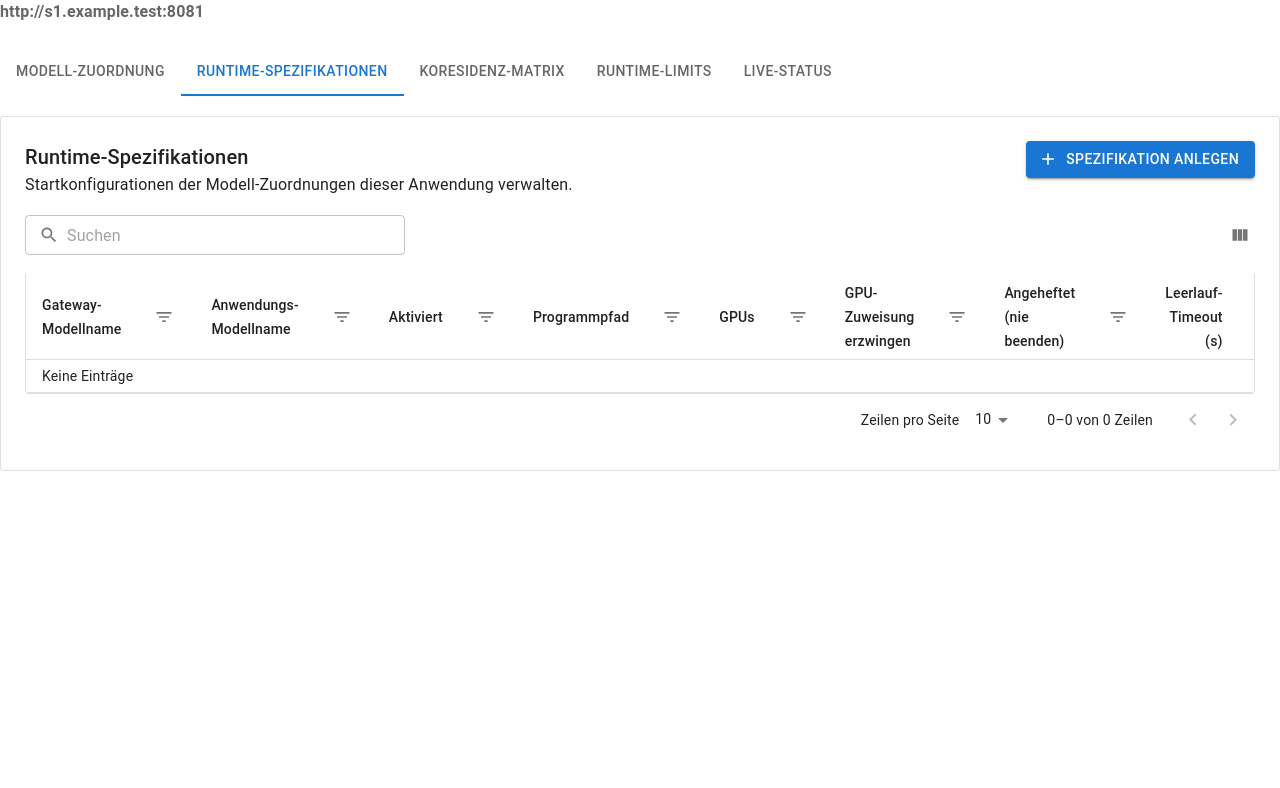
Test case: RuntimeAdminSection create (mapping + spec) › pre-fills the API-variant controls from the parent app on create
Click the button "Spezifikation anlegen".
click(1141, 159)  # box [1026,141,1255,178]
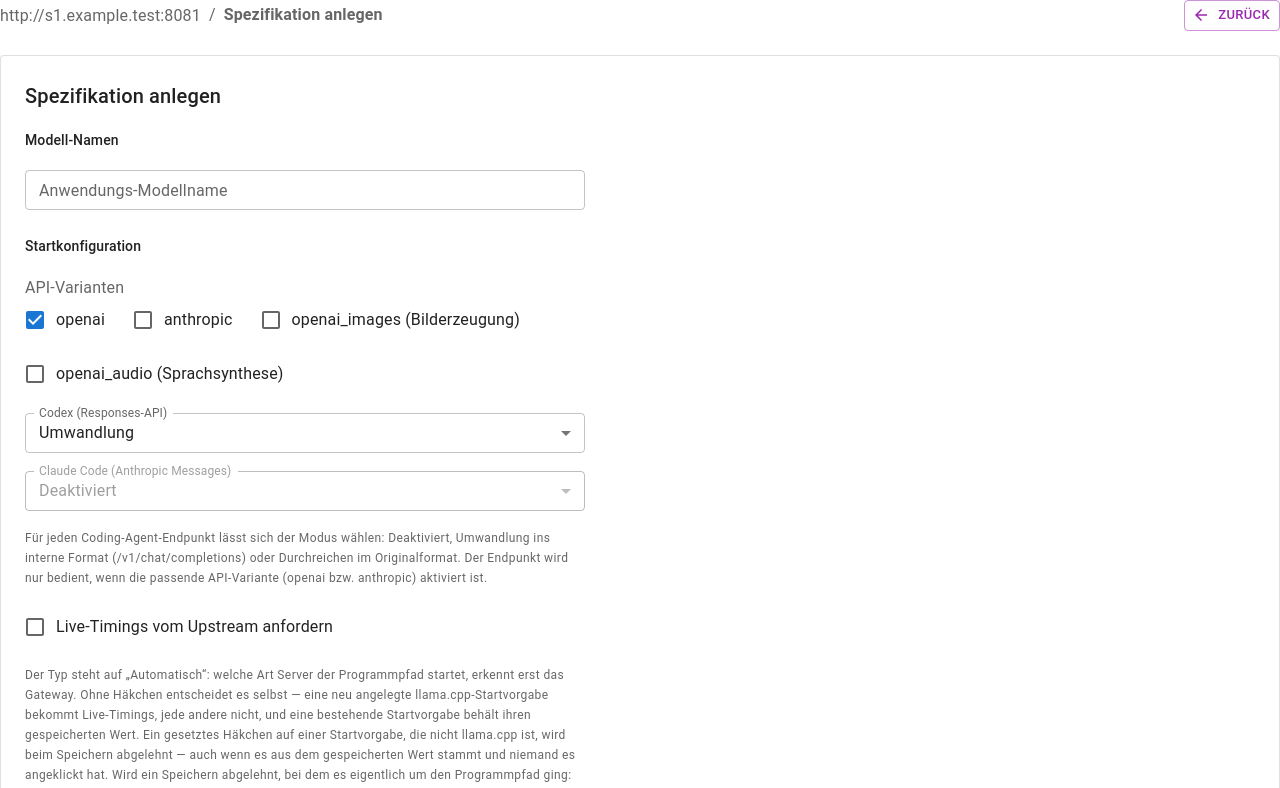
expect the checkbox labelled "openai" is checked: met, box [23,308,105,332]
expect the checkbox labelled "anthropic" is not checked: met, box [131,308,232,332]
expect the dropdown named "Codex (Responses-API)" reads "Umwandlung": met, box [39,423,134,442]
